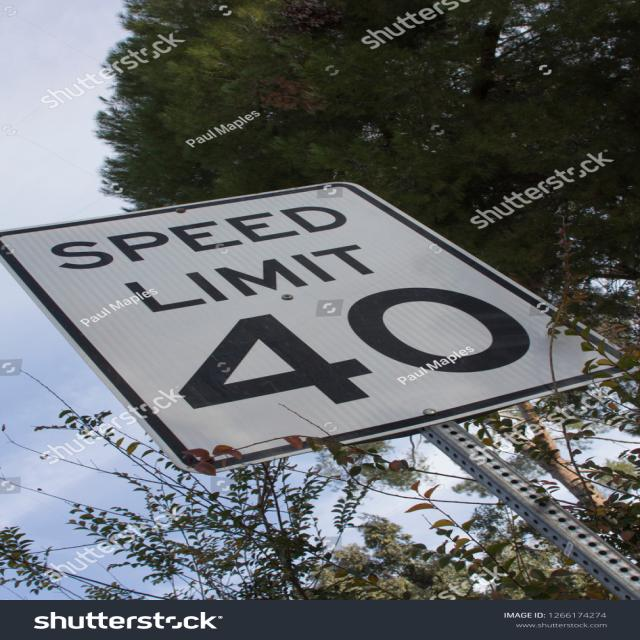speedLimit40: (0, 175, 639, 476)
